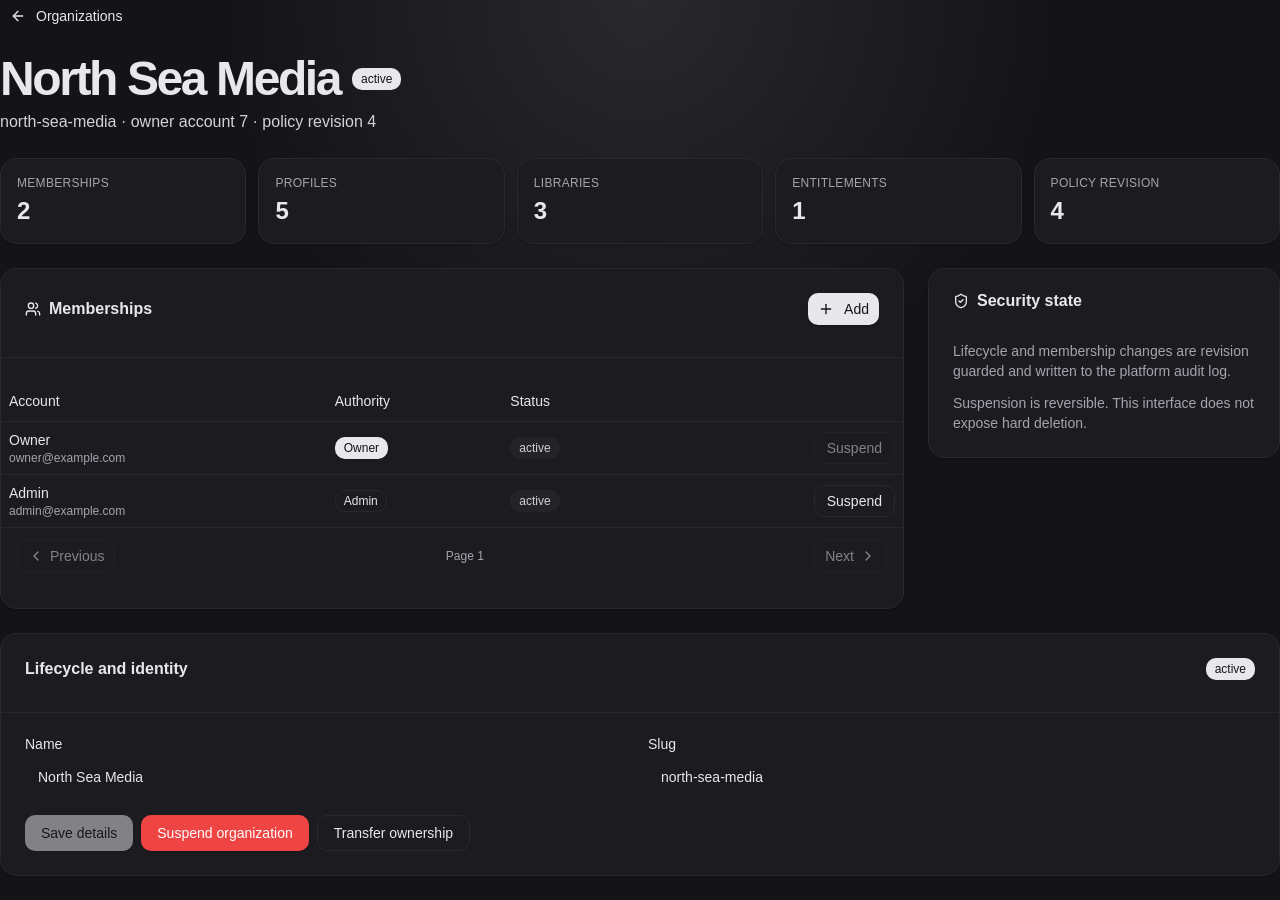
Test: OrganizationDetailPage › names the organization and active membership impact before suspension
Expected: the heading "North Sea Media" is shown, [0,56,340,102]
Step 1. Click the button "Suspend organization" → [225, 833], box [141,815,309,851]
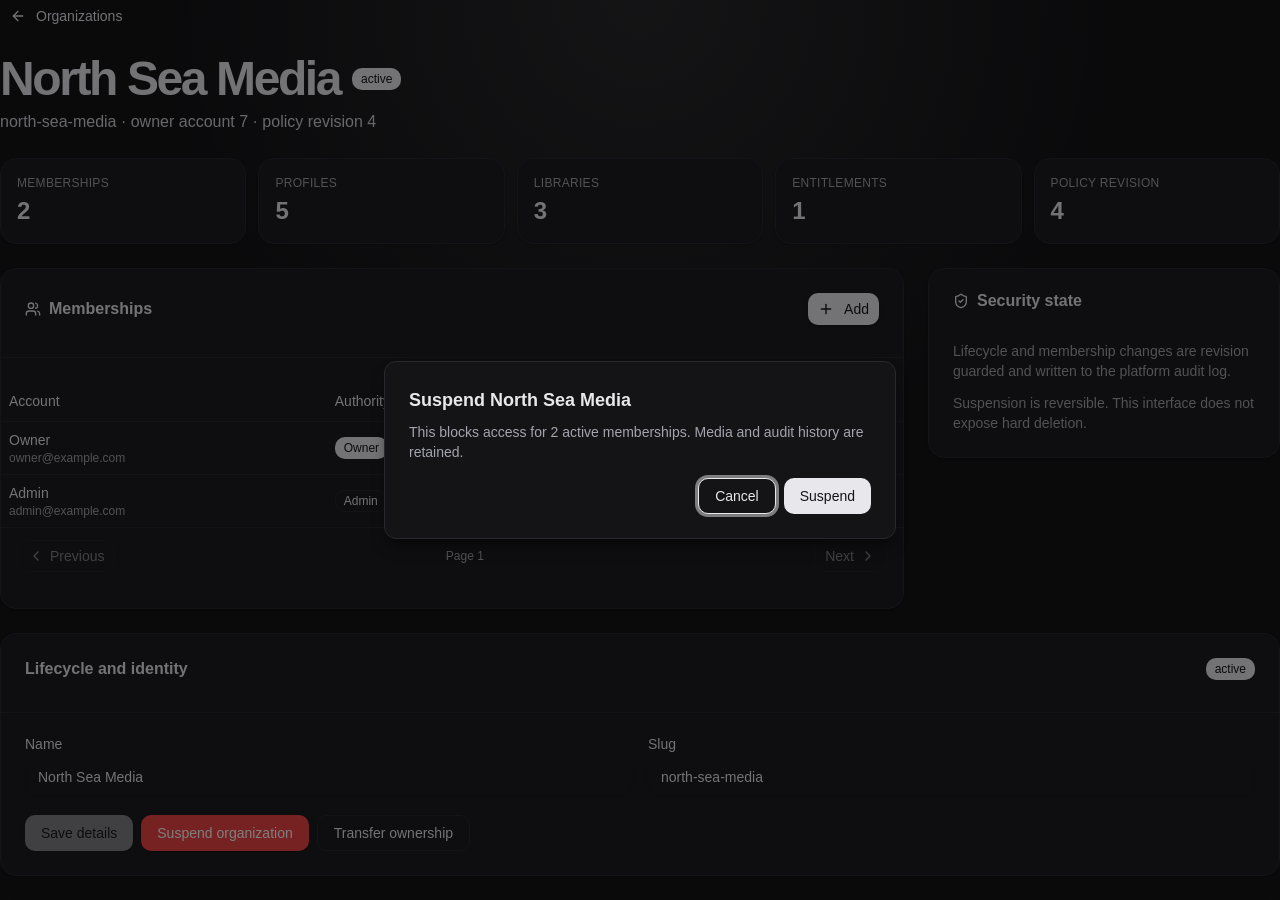
Now the heading "Suspend North Sea Media" is shown, box [409,390,631,410]
Now the text "2 active memberships" is shown, box [409,424,863,460]
